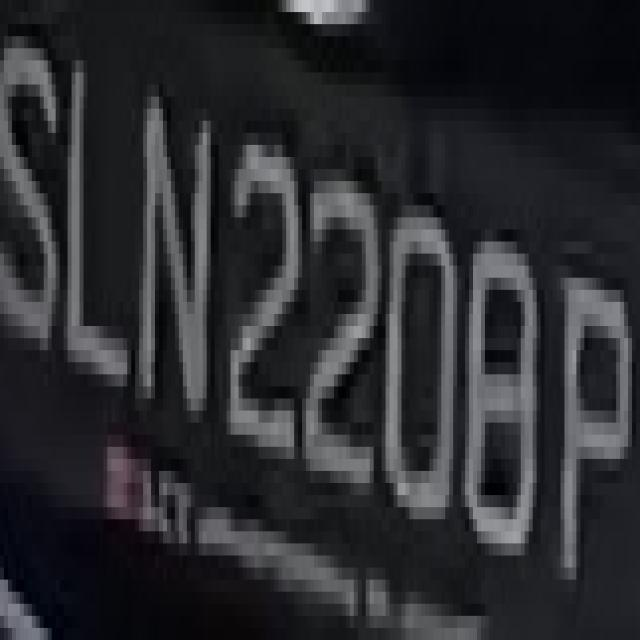0: (378, 133, 457, 567)
2: (302, 121, 382, 555), (223, 97, 298, 507)
8: (461, 193, 541, 568)
L: (72, 24, 139, 423)
N: (139, 72, 219, 459)
P: (549, 217, 628, 616)
S: (8, 12, 64, 362)
